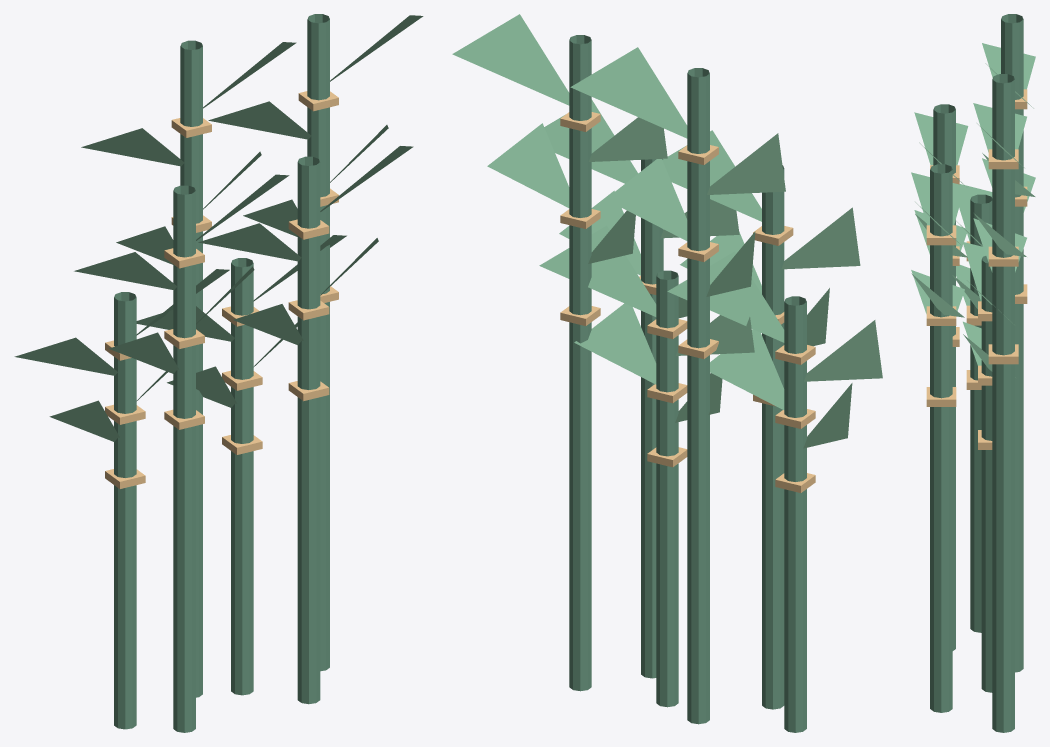
Rendered from v07_moonfall_bamboo_fan_lod0.glb.
3 renders of one model, left to right at view 1: azimuth 30°, elevation 25°; view 2: azimuth 150°, elevation 25°; view 3: azimuth 270°, elevation 25°, orthographic.
Parts seen in each view (by area): view 1: moonfall_bamboo_fan; view 2: moonfall_bamboo_fan; view 3: moonfall_bamboo_fan.
Part boxes in pixels (x1,y1,x2,y2): moonfall_bamboo_fan: [14, 14, 423, 732]; moonfall_bamboo_fan: [452, 14, 882, 732]; moonfall_bamboo_fan: [911, 14, 1035, 732].
Size of the model in its own units: 7.2 by 10.6 by 1.85.
